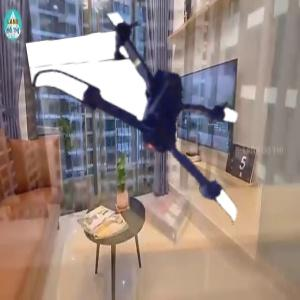drone: (40, 7, 275, 242)
